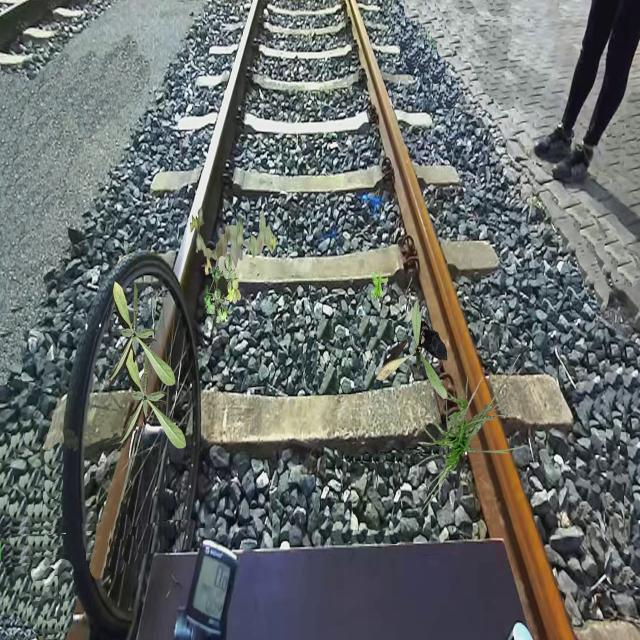Plant: (409, 352, 528, 516), (104, 280, 176, 388), (115, 343, 186, 451), (376, 300, 448, 400), (190, 207, 276, 276), (204, 254, 242, 328), (371, 269, 388, 301)
